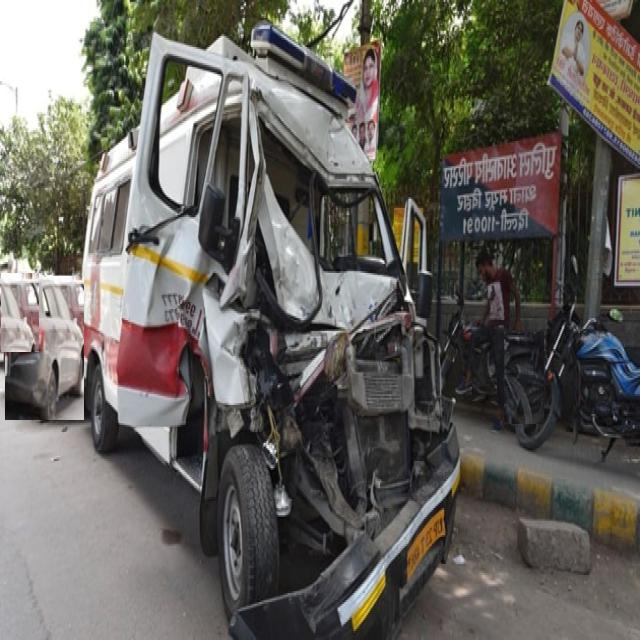accident: (80, 27, 460, 637)
car: (5, 276, 84, 420), (0, 273, 39, 352)
motorcycle: (516, 294, 640, 457), (504, 332, 544, 424), (441, 298, 471, 394), (472, 338, 496, 401)
